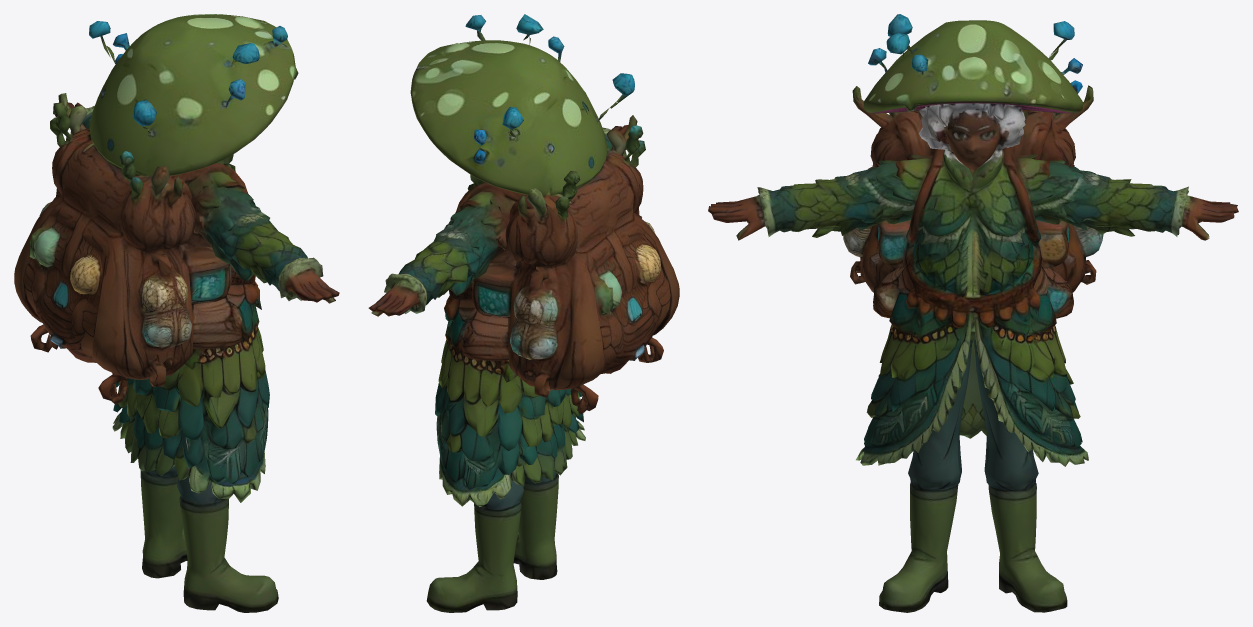
Rendered from n2_seedvault.3dc270c1.glb.
The picture shows the model from 3 angles, left to right: view 1: azimuth 30°, elevation 25°; view 2: azimuth 150°, elevation 25°; view 3: azimuth 270°, elevation 25°; orthographic projection. The views are drawn at different scales.
Parts seen in each view (by area): view 1: tripo_node_f7a5cb26-420c-4385-a490-ad74fa6db92c; view 2: tripo_node_f7a5cb26-420c-4385-a490-ad74fa6db92c; view 3: tripo_node_f7a5cb26-420c-4385-a490-ad74fa6db92c.
Part boxes in pixels (x1,y1,x2,y2): tripo_node_f7a5cb26-420c-4385-a490-ad74fa6db92c: (14, 14, 339, 612); tripo_node_f7a5cb26-420c-4385-a490-ad74fa6db92c: (368, 14, 679, 612); tripo_node_f7a5cb26-420c-4385-a490-ad74fa6db92c: (708, 14, 1238, 612).
Bounding box in the file's own units: 0.4163 × 1 × 0.8475.
1 material, 1 textured.
